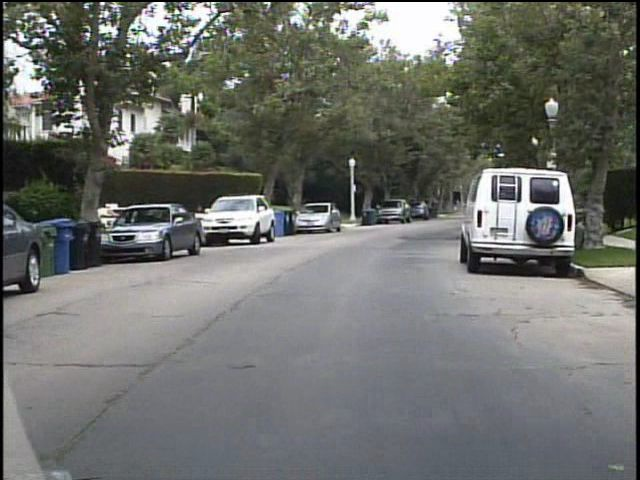person: (567, 218, 589, 255)
